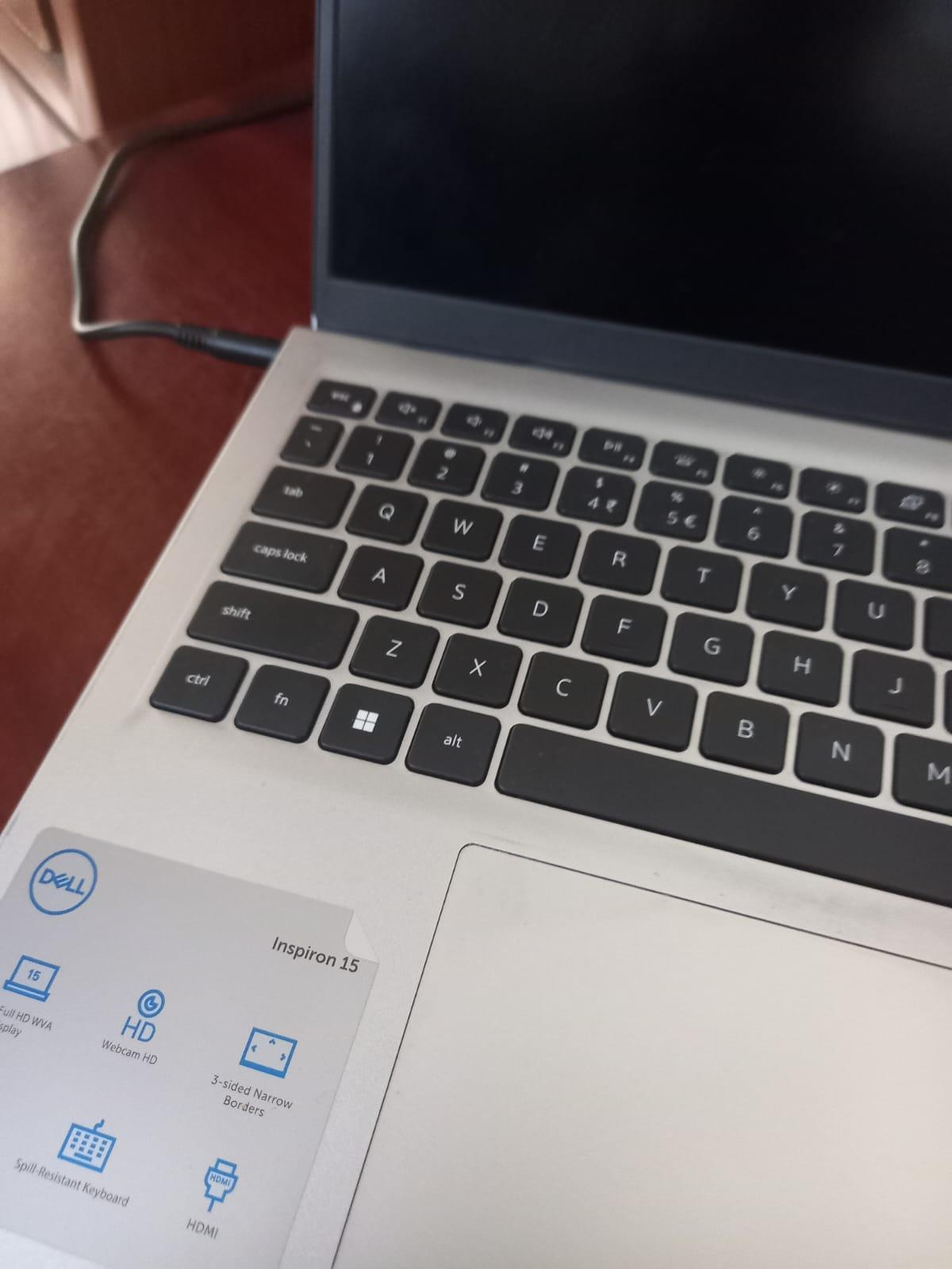laptop: (255, 11, 952, 1269)
